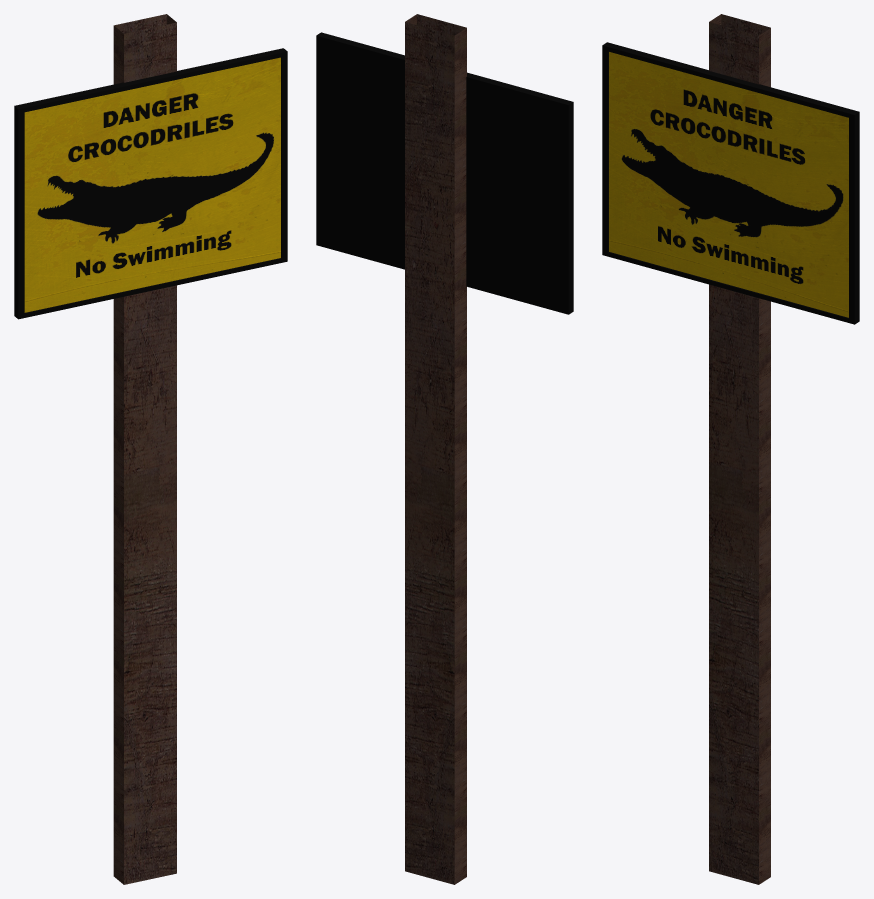
Rendered from fbxSign.fbx.
3 views of the same model, side by side, from view 1: azimuth 30°, elevation 25°; view 2: azimuth 150°, elevation 25°; view 3: azimuth 330°, elevation 25° (orthographic).
Parts seen in each view (by area): view 1: sign:pCube1, sign:a1:dock:pCube39; view 2: sign:a1:dock:pCube39, sign:pCube1; view 3: sign:pCube1, sign:a1:dock:pCube39.
Boxes of the visible parts, <box> form: sign:pCube1: <box>14,48,287,319</box>; sign:a1:dock:pCube39: <box>113,14,176,884</box>; sign:a1:dock:pCube39: <box>405,14,466,884</box>; sign:pCube1: <box>316,32,573,314</box>; sign:pCube1: <box>602,42,859,324</box>; sign:a1:dock:pCube39: <box>709,14,770,884</box>.
Bounding box in the file's own units: 2.24 × 6.95 × 0.2986.
3 materials, 2 textured.
